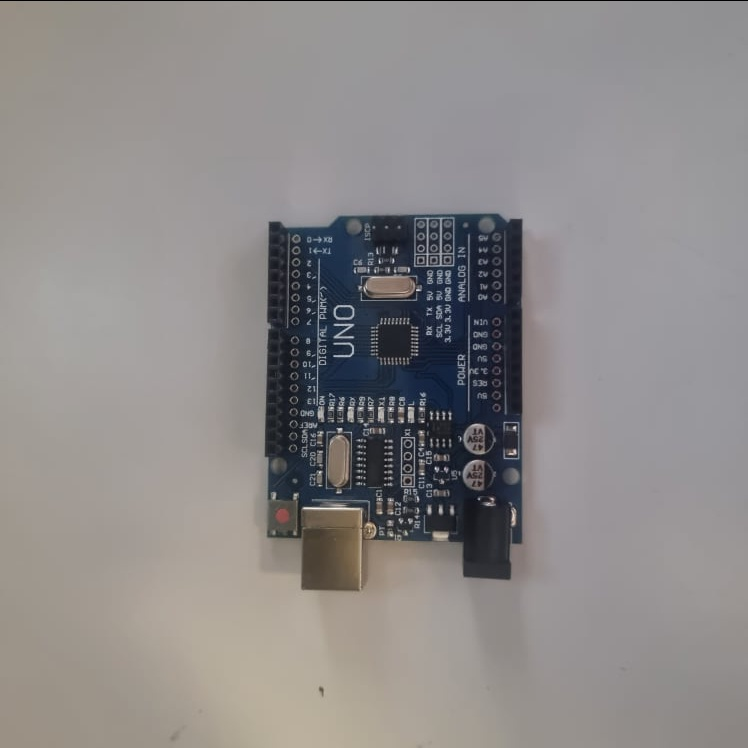UNO R3: (262, 208, 527, 590)
